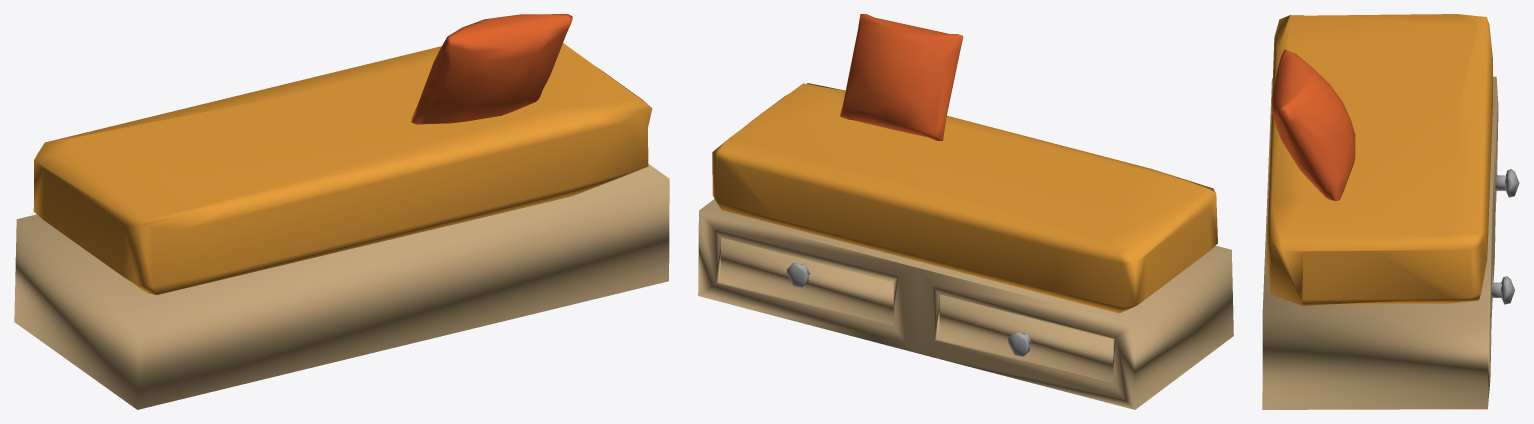
Rendered from Pillow.002_LOD2.fbx.
The picture shows the model from 3 angles, left to right: view 1: azimuth 30°, elevation 25°; view 2: azimuth 150°, elevation 25°; view 3: azimuth 270°, elevation 25°; orthographic projection. The views are drawn at different scales.
Visible parts, largest first — view 1: Pillow_002; view 2: Pillow_002; view 3: Pillow_002.
Boxes of the visible parts, x1=… form: Pillow_002: x1=14, y1=14, x2=669, y2=409; Pillow_002: x1=698, y1=14, x2=1233, y2=409; Pillow_002: x1=1262, y1=14, x2=1519, y2=409.
Size of the model in its own units: 432 by 225 by 194.
